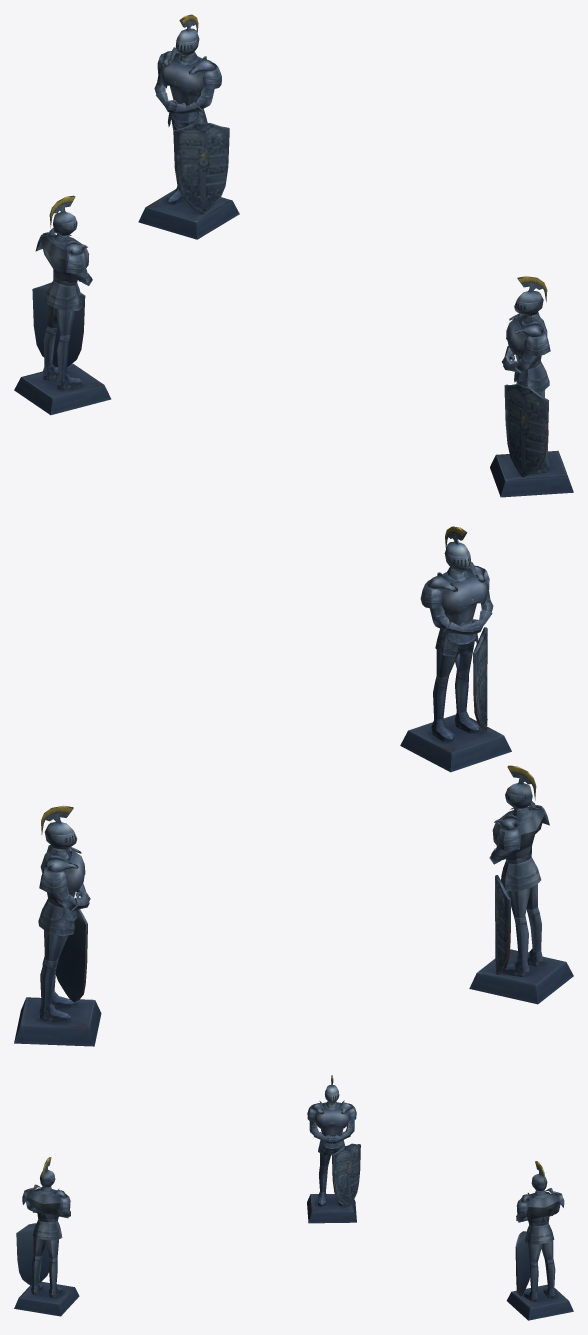
Rendered from wujian63.fbx.
3 views of the same model, one above another, from view 1: azimuth 30°, elevation 25°; view 2: azimuth 150°, elevation 25°; view 3: azimuth 270°, elevation 25° (orthographic). The views are drawn at different scales.
Parts seen in each view (by area): view 1: wujian63; view 2: wujian63; view 3: wujian63.
Part boxes in pixels (<box>): wujian63: <box>14,14,573,497</box>; wujian63: <box>14,526,573,1046</box>; wujian63: <box>14,1075,573,1320</box>.
Bounding box in the file's own units: 1197 × 666 × 2381.
1 material, 1 textured.
